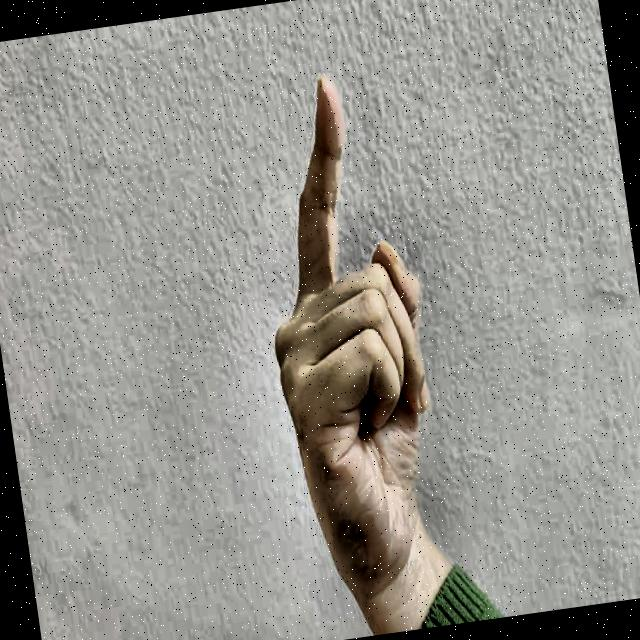U: (192, 29, 470, 572)
